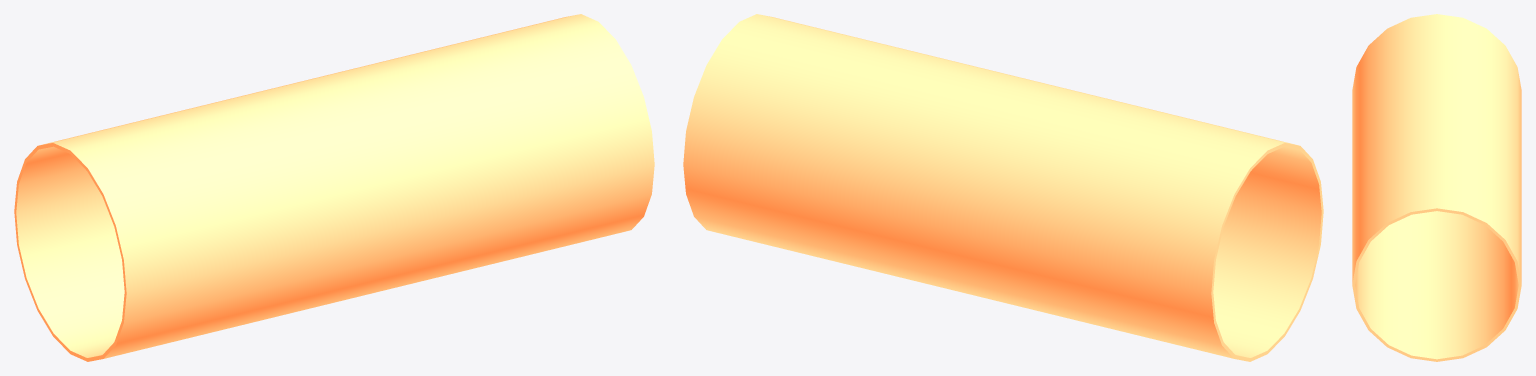
Rendered from SM_PipeMadule5.fbx.
The picture shows the model from 3 angles, left to right: view 1: azimuth 30°, elevation 25°; view 2: azimuth 150°, elevation 25°; view 3: azimuth 270°, elevation 25°; orthographic projection. The views are drawn at different scales.
Parts seen in each view (by area): view 1: SM_PipeMadule5_LOD0; view 2: SM_PipeMadule5_LOD0; view 3: SM_PipeMadule5_LOD0.
Boxes of the visible parts, x1,y1,x2,y2 form: SM_PipeMadule5_LOD0: [14, 14, 654, 361]; SM_PipeMadule5_LOD0: [683, 14, 1323, 361]; SM_PipeMadule5_LOD0: [1352, 14, 1521, 361].
Size of the model in its own units: 343 by 127 by 127.
